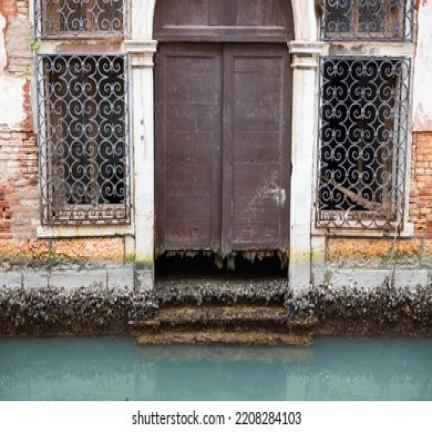karat: (154, 0, 292, 262)
